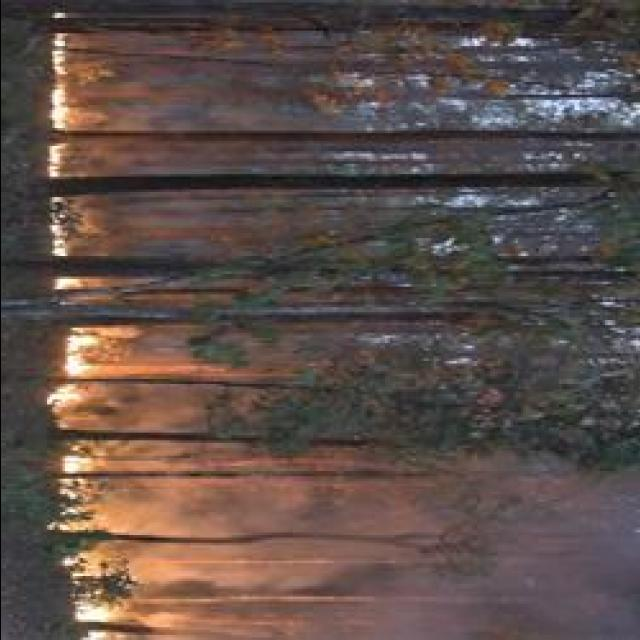fire: (48, 331, 96, 419), (43, 82, 73, 132), (38, 144, 66, 176), (69, 606, 107, 626)
smoke: (302, 596, 468, 640), (137, 553, 263, 591)
